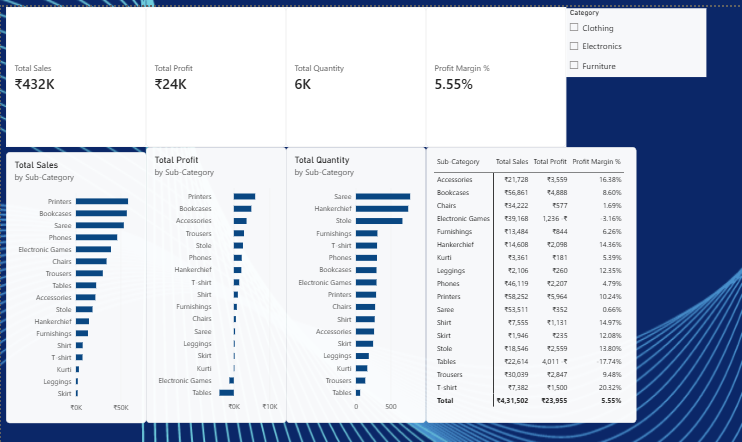

The dashboard page shown, as its layout file describes it:
{"tool":"powerbi","page":{"name":"Product Intelligence","canvas":[1920,1080],"ordinal":3},"visuals":[{"type":"cardVisual","fields":{"Data":["DimCategory.Total Sales"]},"box":[10,0,280,280],"z":0},{"type":"cardVisual","fields":{"Data":["DimCategory.Total Profit"]},"box":[289.7,0,280,280],"z":1},{"type":"cardVisual","fields":{"Data":["DimCategory.Total Quantity"]},"box":[570.1,0,280,280],"z":2},{"type":"cardVisual","fields":{"Data":["DimCategory.Profit Margin %"]},"box":[850.6,0,280.5,280.5],"z":3},{"type":"clusteredBarChart","fields":{"Category":["OrderDetails.Sub-Category"],"Y":["DimCategory.Total Sales"]},"box":[9.2,289.7,280.5,542.5],"z":4},{"type":"clusteredBarChart","fields":{"Category":["OrderDetails.Sub-Category"],"Y":["DimCategory.Total Profit"]},"box":[289.7,280.5,280.5,551.7],"z":5},{"type":"clusteredBarChart","fields":{"Category":["OrderDetails.Sub-Category"],"Y":["DimCategory.Total Quantity"]},"box":[570,280,280,552],"z":6},{"type":"slicer","fields":{"Values":["DimCategory.Category"]},"box":[1131.1,2.3,280.5,137.9],"z":7},{"type":"pivotTable","fields":{"Rows":["OrderDetails.Sub-Category"],"Values":["DimCategory.Total Sales","DimCategory.Total Profit","DimCategory.Profit Margin %"]},"box":[850.6,280.5,420.7,551.7],"z":8}]}

Visuals, with their boxes on the page's 1920x1080 design canvas (x1, y1, x2, y2). These are canvas units, not pixel positions in the 742x442 screenshot, which may show the page scaled, cropped or inside an application window:
cardVisual - DimCategory.Total Sales: rect(10, 0, 290, 280)
cardVisual - DimCategory.Total Profit: rect(290, 0, 570, 280)
cardVisual - DimCategory.Total Quantity: rect(570, 0, 850, 280)
cardVisual - DimCategory.Profit Margin %: rect(851, 0, 1131, 280)
clusteredBarChart - OrderDetails.Sub-Category x DimCategory.Total Sales: rect(9, 290, 290, 832)
clusteredBarChart - OrderDetails.Sub-Category x DimCategory.Total Profit: rect(290, 280, 570, 832)
clusteredBarChart - OrderDetails.Sub-Category x DimCategory.Total Quantity: rect(570, 280, 850, 832)
slicer - DimCategory.Category: rect(1131, 2, 1412, 140)
pivotTable - OrderDetails.Sub-Category x DimCategory.Total Sales: rect(851, 280, 1271, 832)
